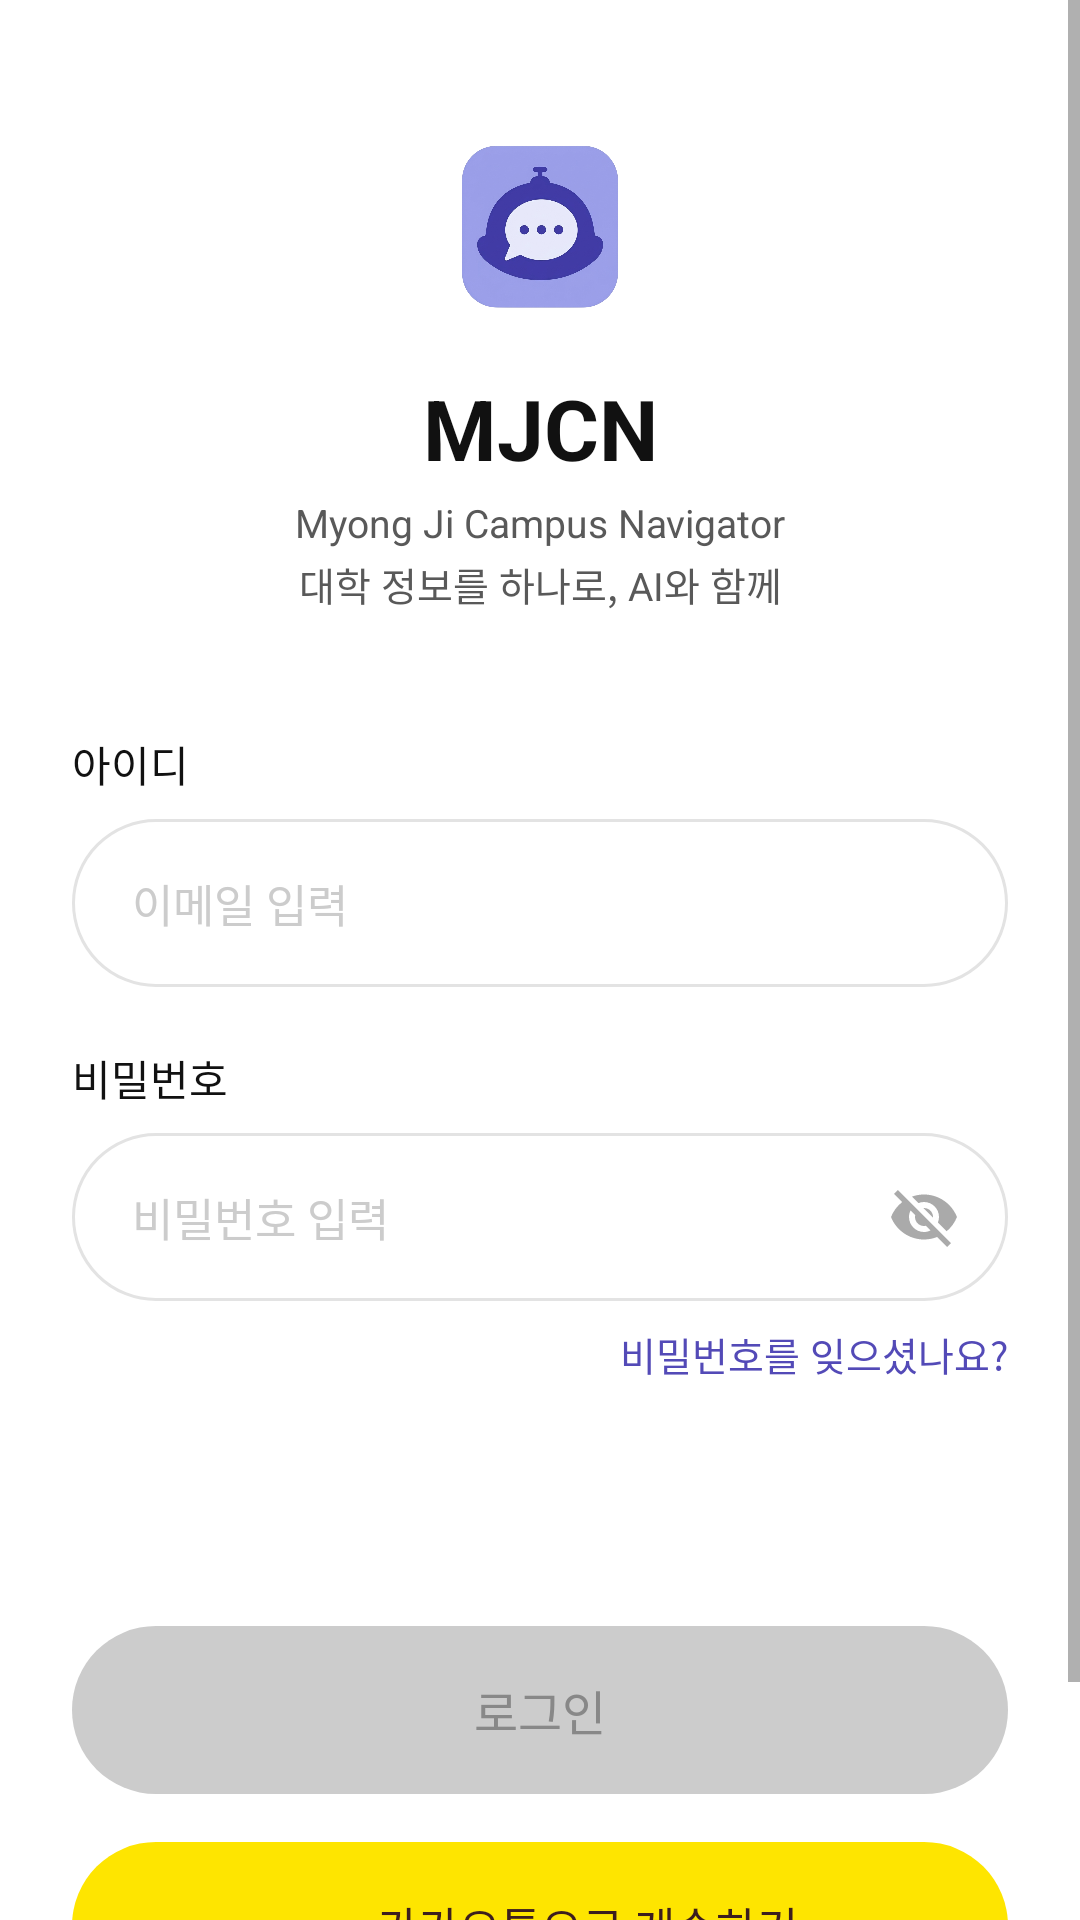

Icons on this 1080px x 1920px Android screen, each with its box as (x1, y1, x2, y2):
비밀번호 보기: (891, 1190, 957, 1247)
